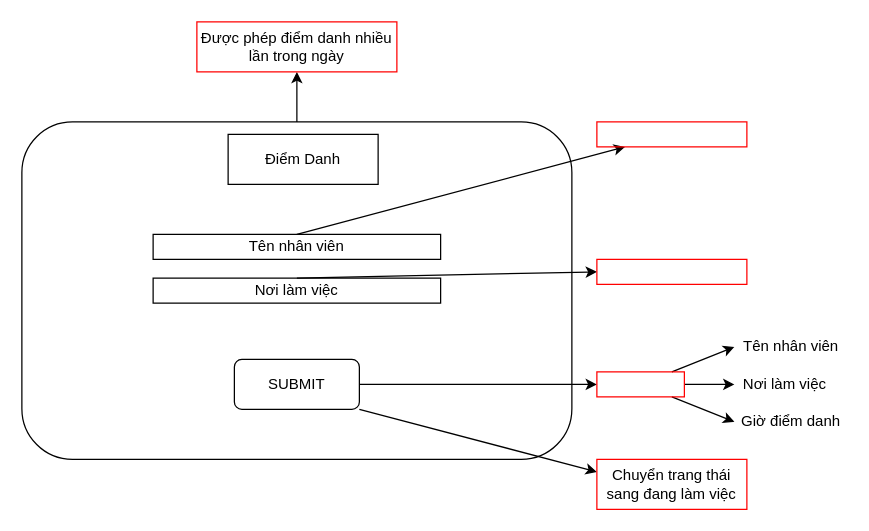
Image size: 869x531. Some labels were removed from this diagram. Here are the shapes that lost their labels. From the top down, the centre of each, then its label:
At (671,134): "Không thể chỉnh sửa".
At (671,271): "Mặc định công ty".
At (640,384): "Trả về:".
